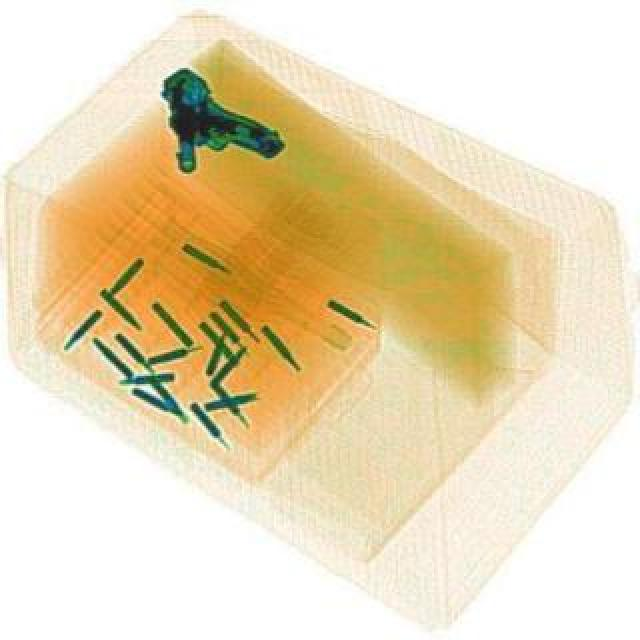gun: (166, 74, 290, 176)
